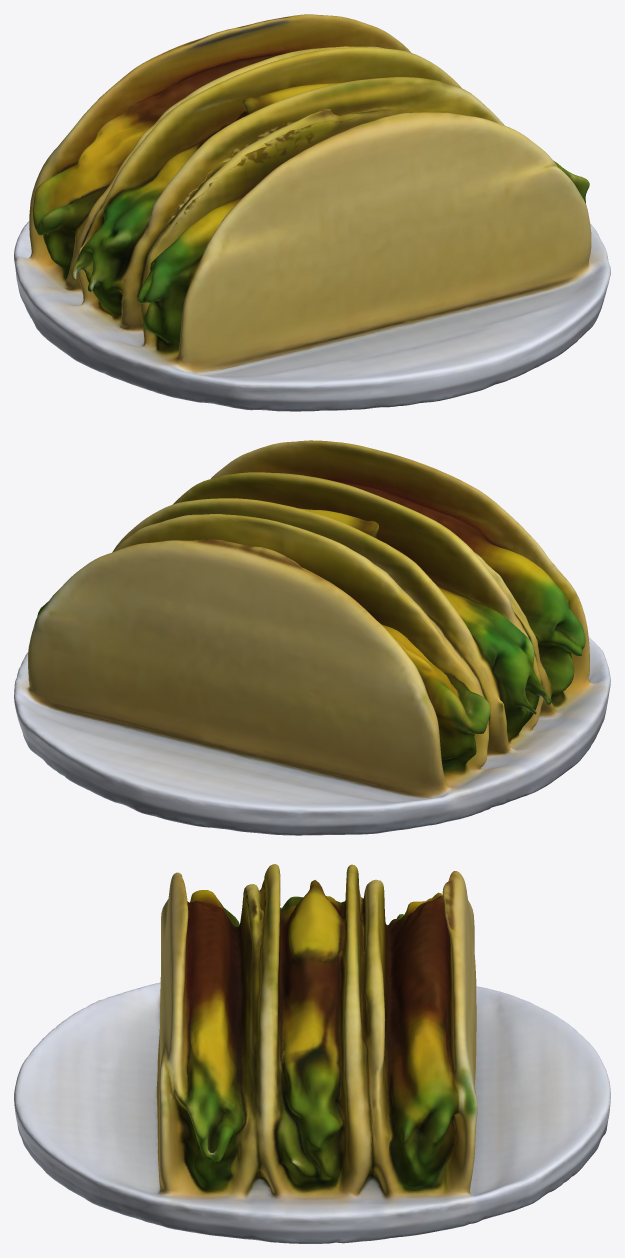
Rendered from taco.glb.
3 views of the same model, one above another, from view 1: azimuth 30°, elevation 25°; view 2: azimuth 150°, elevation 25°; view 3: azimuth 270°, elevation 25° (orthographic).
Visible parts, largest first — view 1: high_poly_0; view 2: high_poly_0; view 3: high_poly_0.
Part boxes in pixels (x1=…): high_poly_0: x1=14, y1=14, x2=610, y2=411; high_poly_0: x1=14, y1=440, x2=610, y2=835; high_poly_0: x1=14, y1=864, x2=610, y2=1243.
Size of the model in its own units: 0.9907 by 0.4105 by 1.
1 material, 1 textured.
